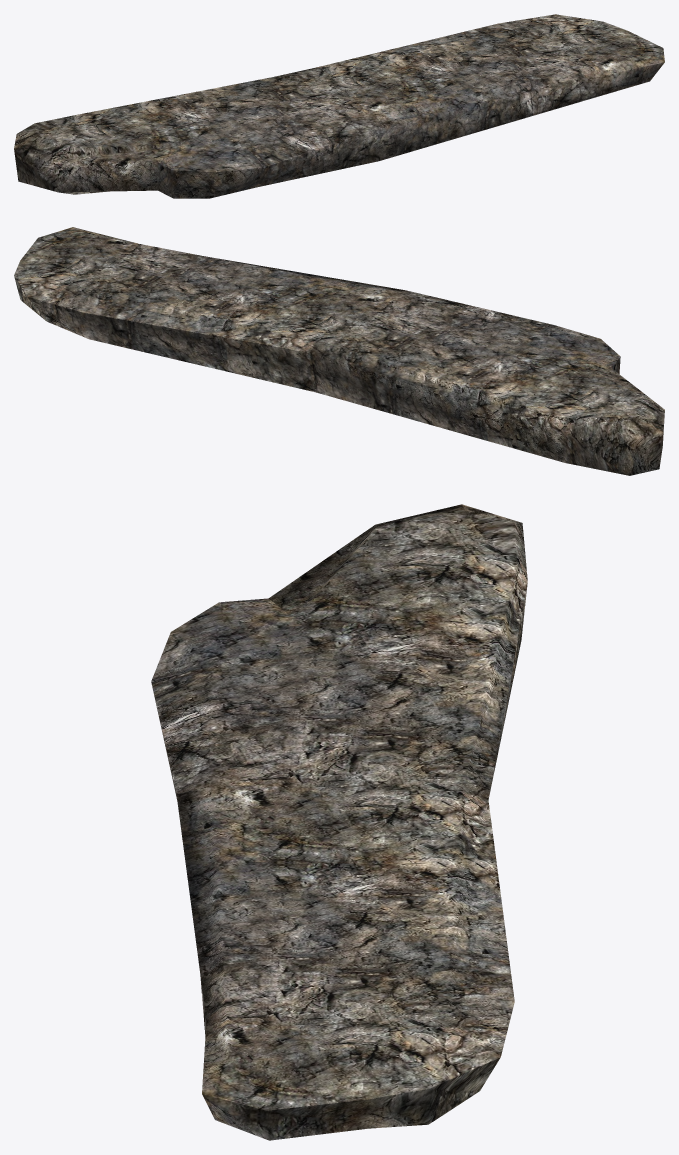
Rendered from pir_m_prp_cav_rock_flat.fbx.
The picture shows the model from 3 angles, top to bottom: view 1: azimuth 30°, elevation 25°; view 2: azimuth 150°, elevation 25°; view 3: azimuth 270°, elevation 25°; orthographic projection. The views are drawn at different scales.
Visible parts, largest first — view 1: rock; view 2: rock; view 3: rock.
Part boxes in pixels (<box>): rock: <box>14,14,664,198</box>; rock: <box>14,227,664,475</box>; rock: <box>151,504,527,1140</box>.
Bounding box in the file's own units: 10543 × 812 × 2863.
1 material, 1 textured.
